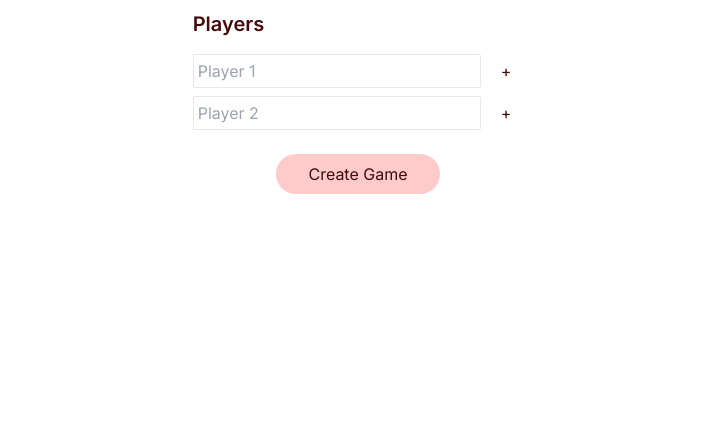
NewGame › creates a game on click
The width and height of the screenshot is (708, 431).
Click the button "Create Game" at (358,174), box [276,154,440,194]
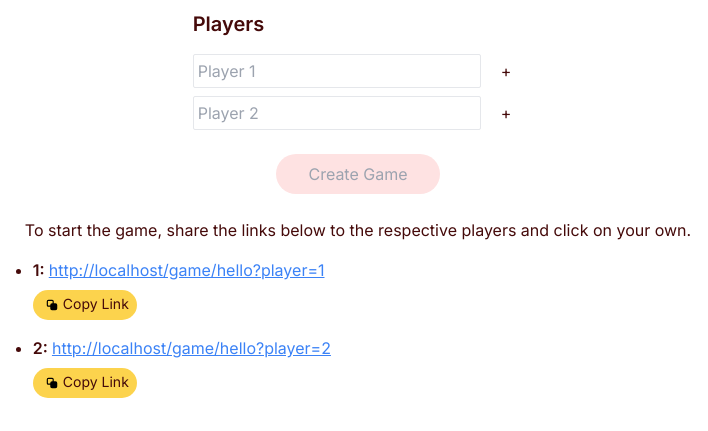
Now the element with test id "start-game" is shown, box [25,218,691,414]
